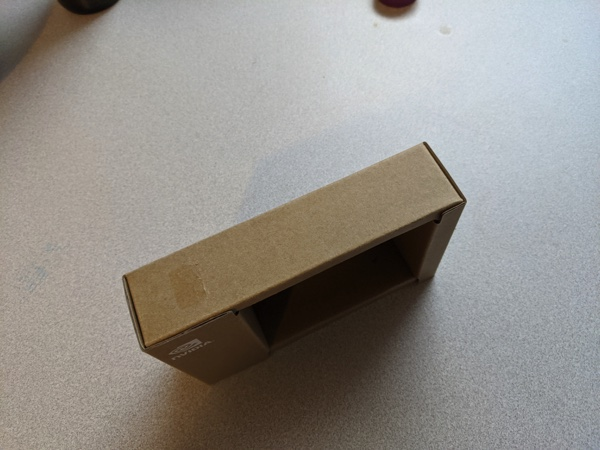cardboard: (88, 133, 493, 389)
